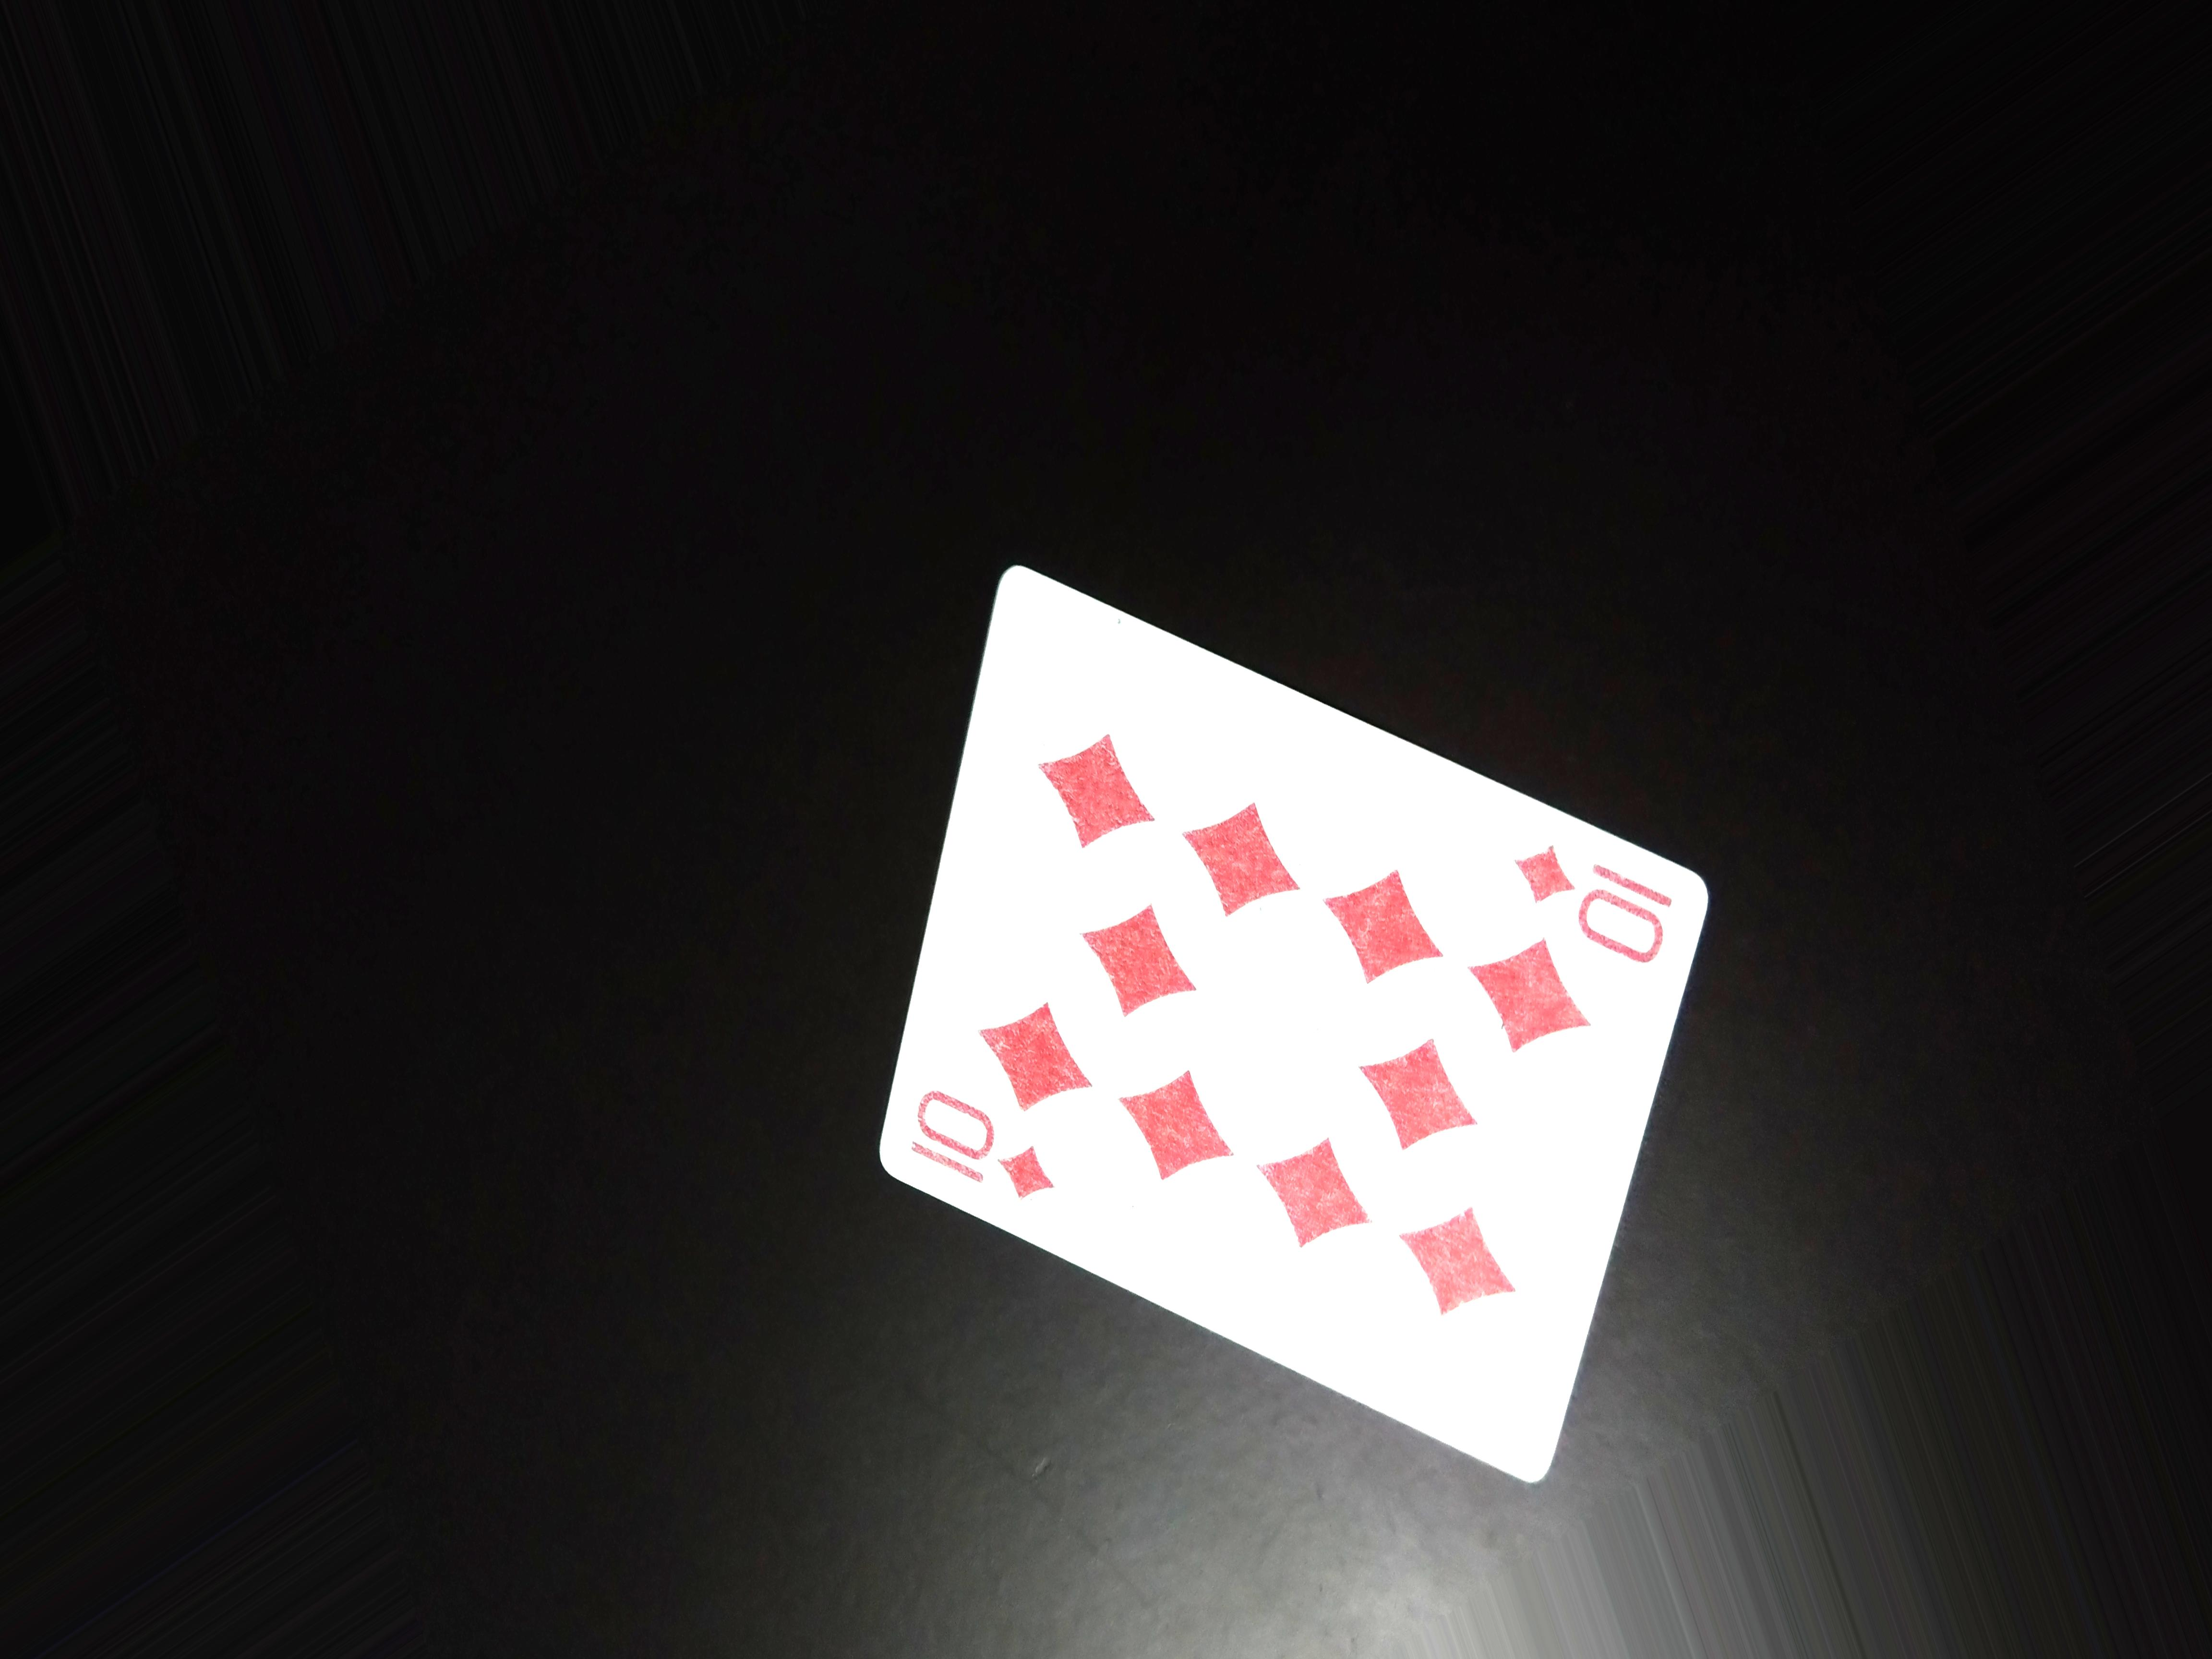10D: (1508, 828, 1679, 958)
